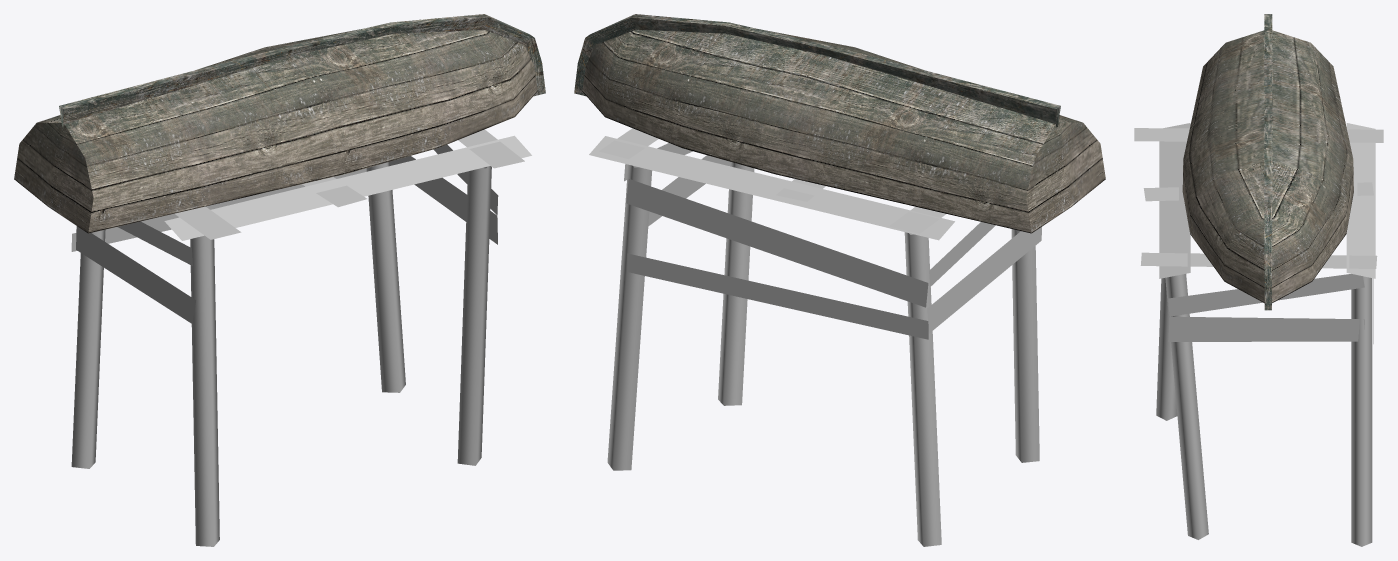
Rendered from Boat2_LOD2.fbx.
The picture shows the model from 3 angles, left to right: view 1: azimuth 30°, elevation 25°; view 2: azimuth 150°, elevation 25°; view 3: azimuth 270°, elevation 25°; orthographic projection. The views are drawn at different scales.
Visible parts, largest first — view 1: polySurface1121; view 2: polySurface1121; view 3: polySurface1121.
Boxes of the visible parts, <box> form: polySurface1121: <box>14,14,545,546</box>; polySurface1121: <box>574,14,1105,546</box>; polySurface1121: <box>1134,14,1383,546</box>.
Size of the model in its own units: 5.37 by 4.34 by 2.67.
